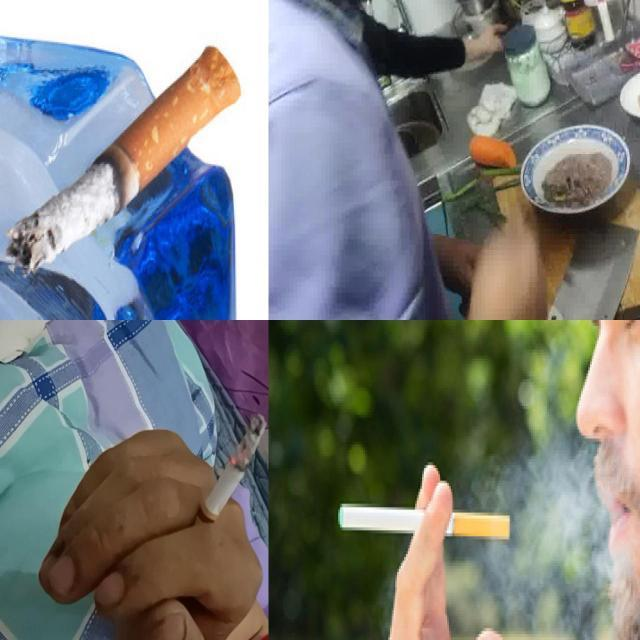cigarette: (6, 43, 243, 272), (184, 412, 268, 553), (338, 501, 510, 540)
